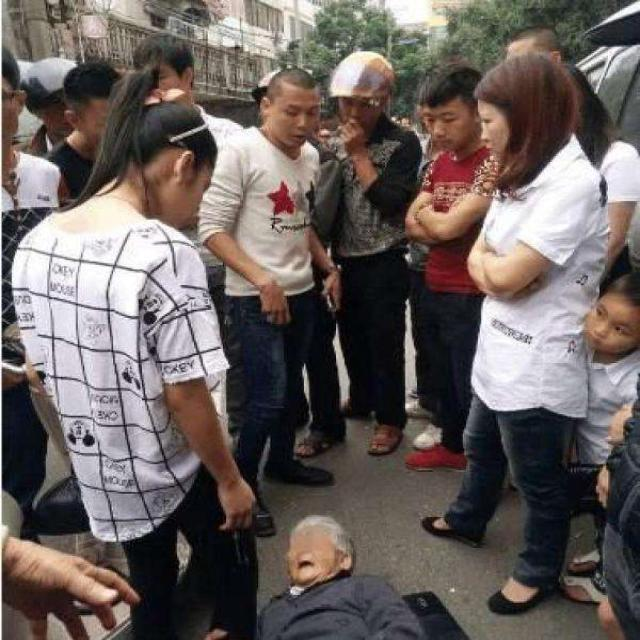10-: (3, 2, 636, 639)
down: (251, 504, 431, 639)
